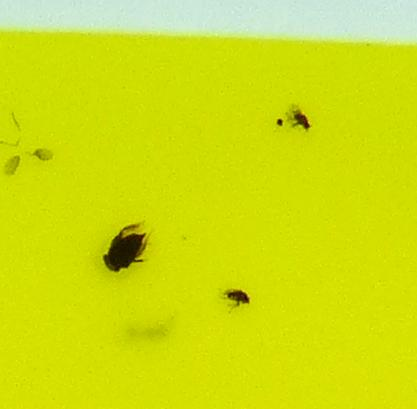Brachycera: (280, 100, 317, 134), (221, 287, 252, 309)
Hemiptera: (100, 221, 149, 275)
